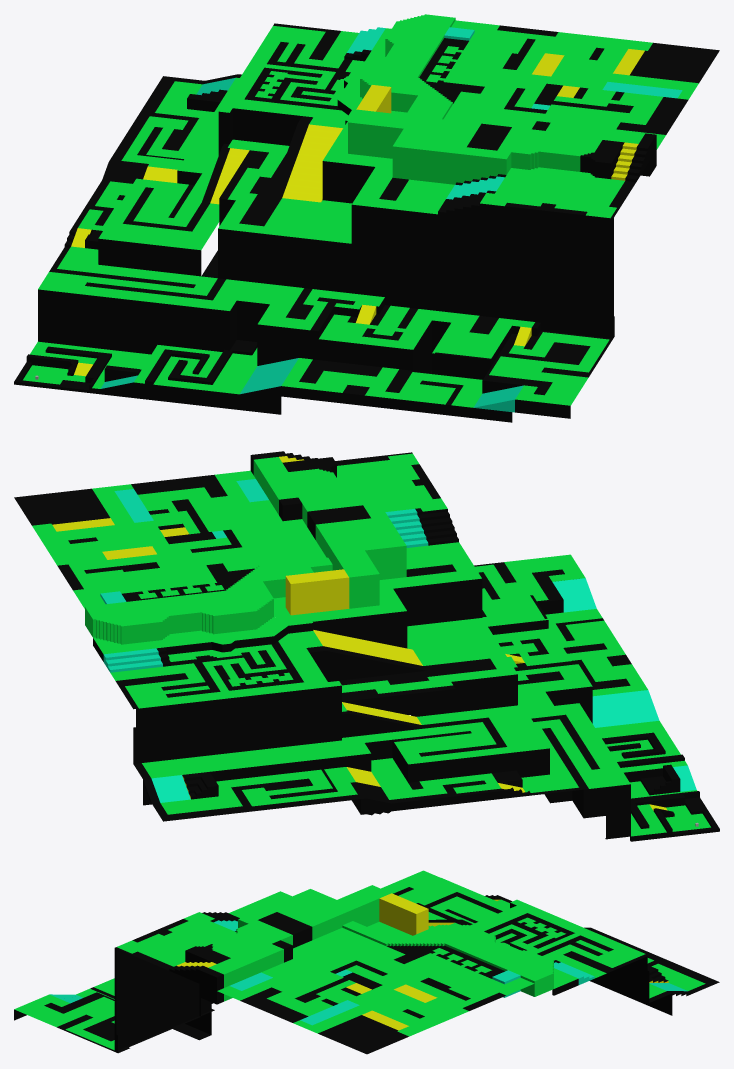
Rendered from Level_Whole.fbx.
3 renders of one model, top to bottom at view 1: azimuth 30°, elevation 25°; view 2: azimuth 150°, elevation 25°; view 3: azimuth 270°, elevation 25°, orthographic. The views are drawn at different scales.
Visible parts, largest first — view 1: polySurface14, levelinprogressV05:polySurface27, levelinprogressV05:polySurface26, levelinprogressV05:polySurface22, levelinprogressV05:polySurface29, levelinprogressV05:polySurface24, levelinprogressV05:polySurface20, polySurface12, polySurface8, polySurface6, polySurface9, polySurface18 (+9 smaller); view 2: levelinprogressV05:polySurface24, levelinprogressV05:polySurface20, levelinprogressV05:polySurface26, levelinprogressV05:polySurface22, levelinprogressV05:polySurface29, polySurface14, levelinprogressV05:polySurface34, levelinprogressV05:polySurface36, polySurface18, levelinprogressV05:polySurface37, polySurface16, polySurface8 (+9 smaller); view 3: levelinprogressV05:polySurface29, levelinprogressV05:polySurface27, levelinprogressV05:polySurface24, levelinprogressV05:polySurface36, levelinprogressV05:polySurface37, levelinprogressV05:polySurface34, levelinprogressV05:polySurface39, levelinprogressV05:polySurface41, levelinprogressV05:polySurface20, polySurface9, levelinprogressV05:polySurface42, polySurface18 (+4 smaller).
Boxes of the visible parts, left/top/right/bottom form: polySurface14: left=38, top=250, right=384, bottom=365; levelinprogressV05:polySurface27: left=479, top=142, right=649, bottom=338; levelinprogressV05:polySurface26: left=322, top=28, right=506, bottom=315; levelinprogressV05:polySurface22: left=218, top=116, right=351, bottom=293; levelinprogressV05:polySurface29: left=348, top=85, right=656, bottom=184; levelinprogressV05:polySurface24: left=218, top=23, right=385, bottom=155; levelinprogressV05:polySurface20: left=98, top=74, right=249, bottom=276; polySurface12: left=318, top=304, right=540, bottom=379; polySurface8: left=281, top=341, right=523, bottom=422; polySurface6: left=133, top=340, right=298, bottom=414; polySurface9: left=482, top=326, right=612, bottom=418; polySurface18: left=110, top=74, right=237, bottom=167; levelinprogressV05:polySurface24: left=103, top=631, right=341, bottom=763; levelinprogressV05:polySurface20: left=133, top=702, right=549, bottom=805; levelinprogressV05:polySurface26: left=93, top=508, right=482, bottom=661; levelinprogressV05:polySurface22: left=306, top=618, right=517, bottom=716; levelinprogressV05:polySurface29: left=250, top=452, right=406, bottom=615; polySurface14: left=507, top=656, right=630, bottom=839; levelinprogressV05:polySurface34: left=85, top=557, right=332, bottom=644; levelinprogressV05:polySurface36: left=73, top=479, right=326, bottom=608; polySurface18: left=143, top=767, right=360, bottom=821; levelinprogressV05:polySurface37: left=57, top=470, right=301, bottom=590; polySurface16: left=341, top=758, right=583, bottom=815; polySurface8: left=545, top=578, right=647, bottom=696; levelinprogressV05:polySurface29: left=185, top=885, right=428, bottom=1004; levelinprogressV05:polySurface27: left=114, top=912, right=236, bottom=1053; levelinprogressV05:polySurface24: left=450, top=899, right=649, bottom=1002; levelinprogressV05:polySurface36: left=229, top=927, right=534, bottom=995; levelinprogressV05:polySurface37: left=217, top=939, right=505, bottom=1010; levelinprogressV05:polySurface34: left=342, top=921, right=553, bottom=997; levelinprogressV05:polySurface39: left=251, top=972, right=422, bottom=1022; levelinprogressV05:polySurface41: left=293, top=994, right=421, bottom=1054; levelinprogressV05:polySurface20: left=398, top=878, right=672, bottom=1015; polySurface9: left=14, top=992, right=114, bottom=1051; levelinprogressV05:polySurface42: left=365, top=984, right=468, bottom=1031; polySurface18: left=591, top=929, right=719, bottom=996.
Bounding box in the file's own units: 283 × 68 × 283.
